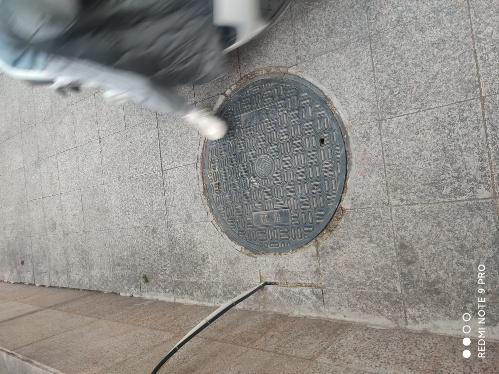good: (200, 71, 347, 254)
